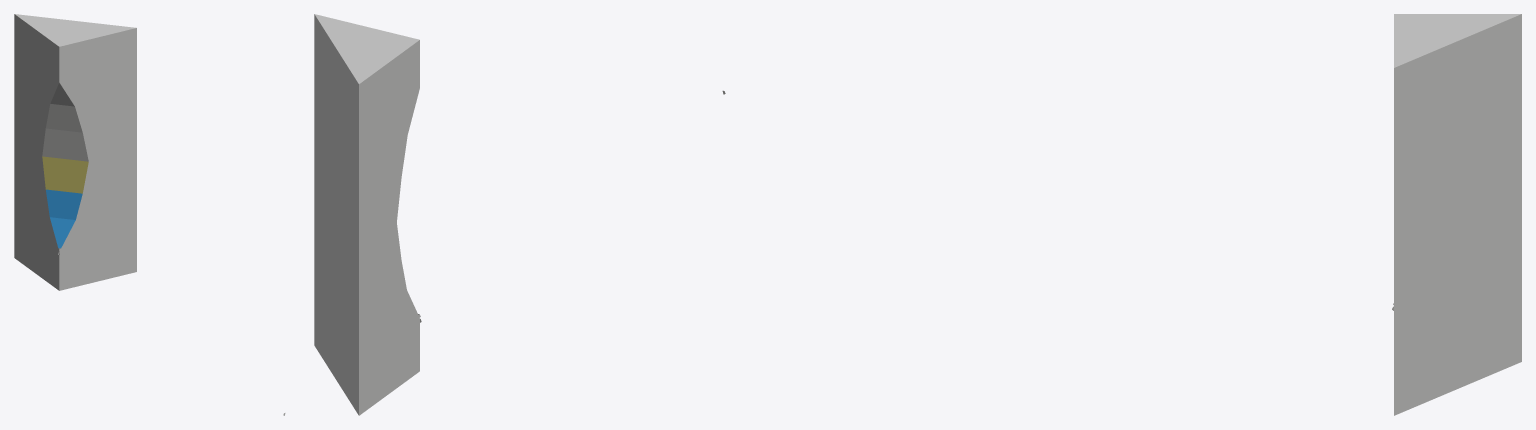
The model's file is SM_Corner.fbx.
3 renders of one model, left to right at view 1: azimuth 30°, elevation 25°; view 2: azimuth 150°, elevation 25°; view 3: azimuth 270°, elevation 25°, orthographic. The views are drawn at different scales.
Visible parts, largest first — view 1: SM_Wall_Edge_Var1.035; view 2: SM_Wall_Edge_Var1.035; view 3: SM_Wall_Edge_Var1.035.
Boxes of the visible parts, <box> form: SM_Wall_Edge_Var1.035: <box>14,14,285,415</box>; SM_Wall_Edge_Var1.035: <box>314,14,725,415</box>; SM_Wall_Edge_Var1.035: <box>1392,14,1521,415</box>.
Bounding box in the file's own units: 203 × 600 × 1200.
